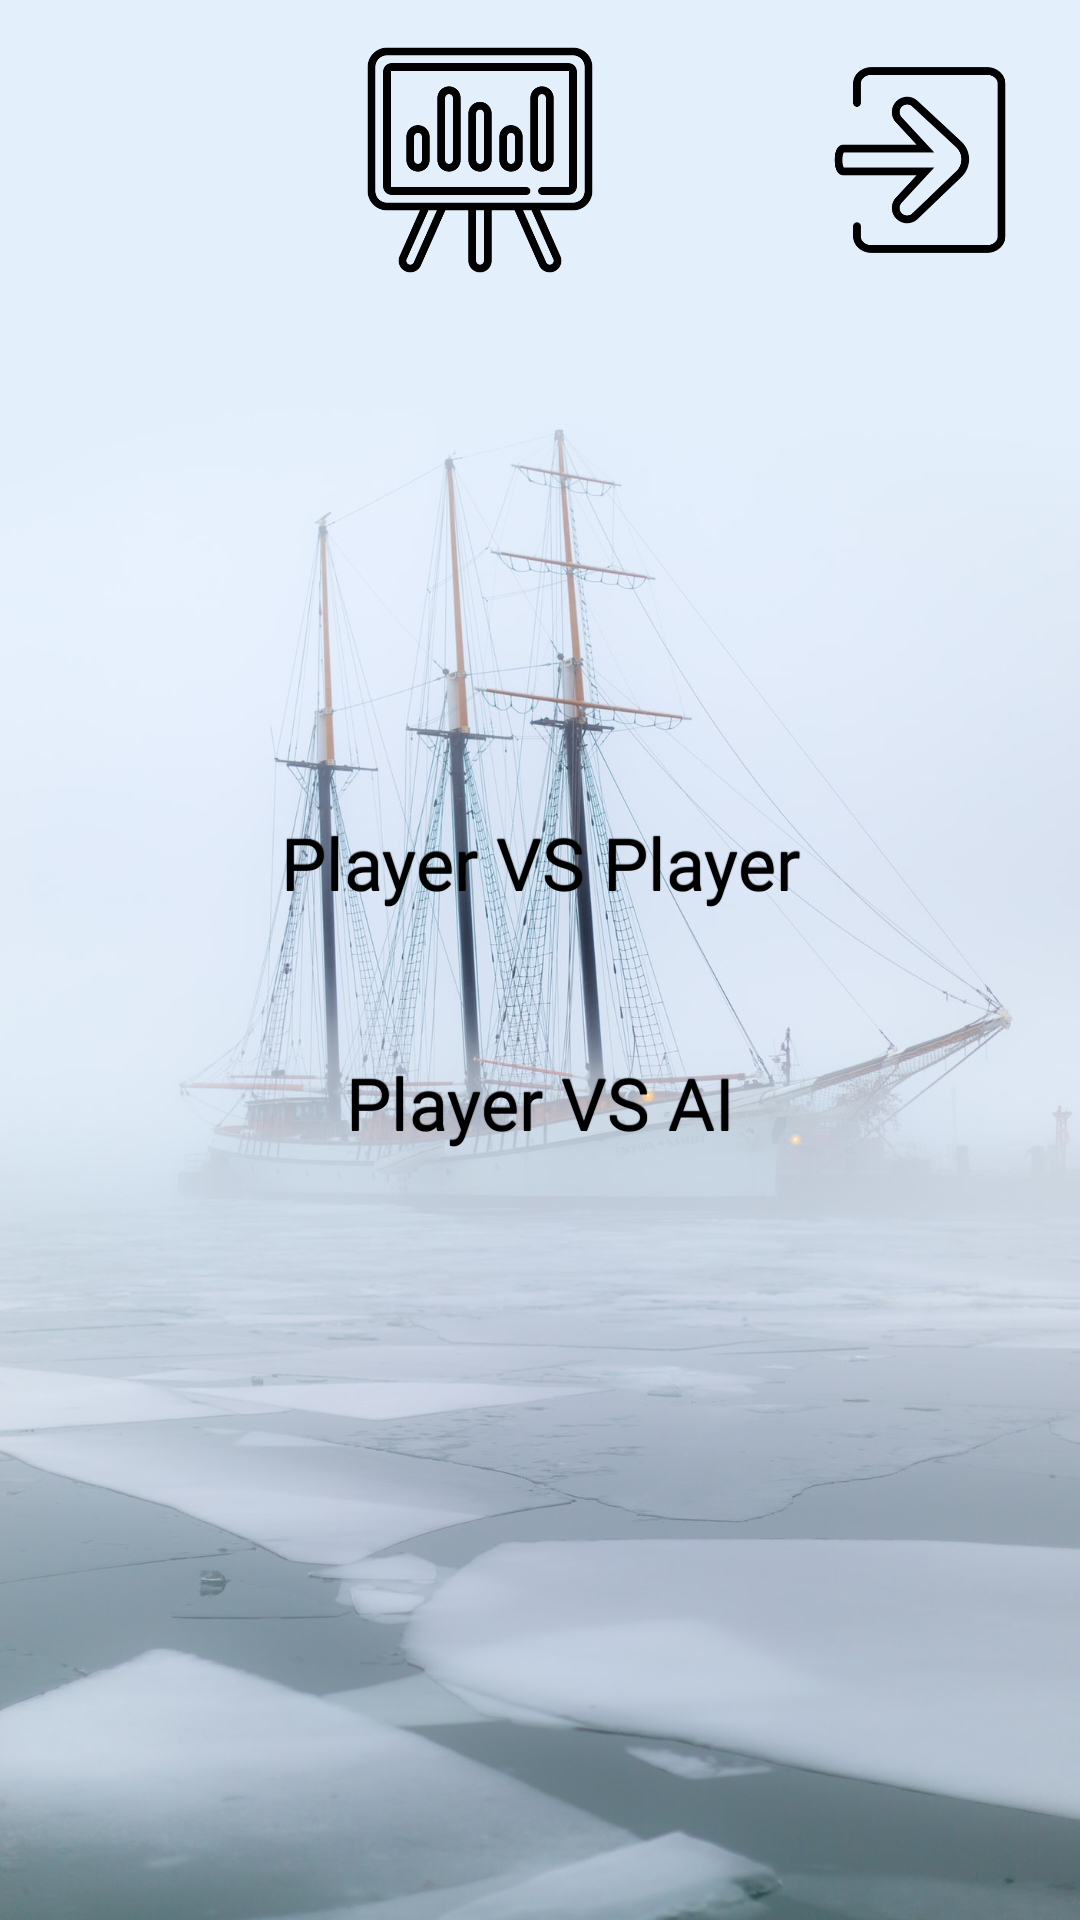

Named icons in this screenshot (1080x1920) and their bounding boxes, {"x1": x1, "y1": y1, "x2": x2, "y2": y2}:
Exit: {"x1": 834, "y1": 67, "x2": 1006, "y2": 253}
